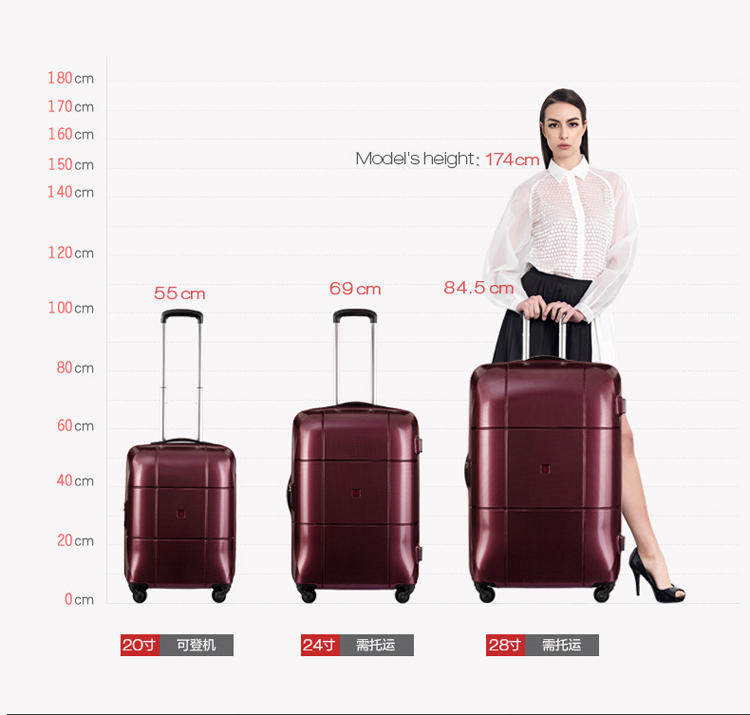suitcase: (281, 306, 425, 606), (122, 305, 238, 605)
